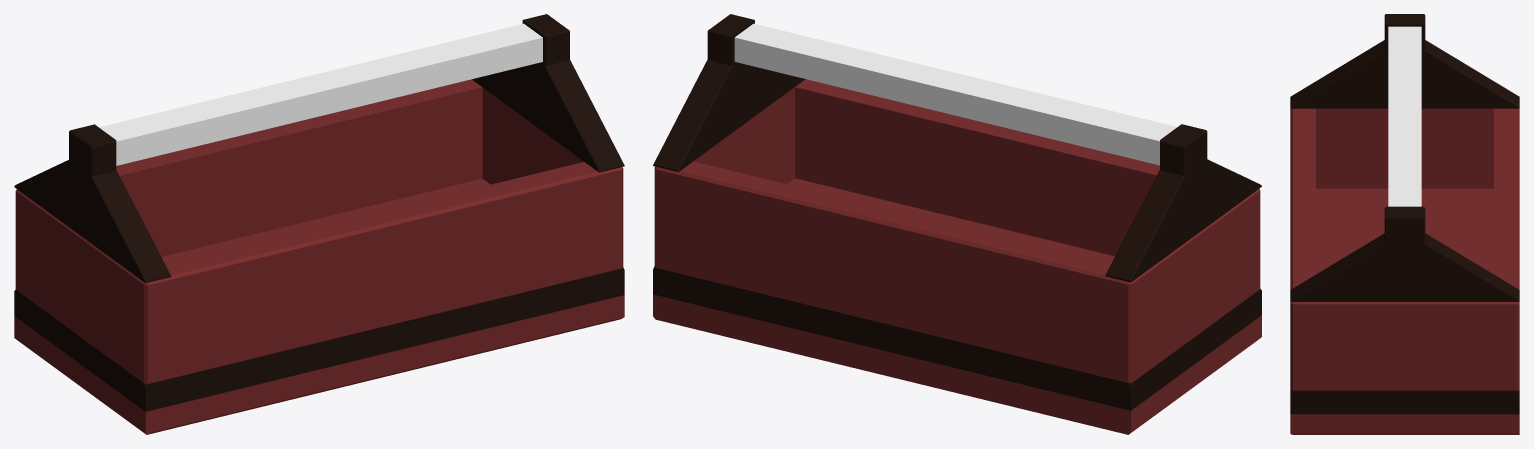
The model's file is toolbox.glb.
3 views of the same model, side by side, from view 1: azimuth 30°, elevation 25°; view 2: azimuth 150°, elevation 25°; view 3: azimuth 270°, elevation 25° (orthographic). The views are drawn at different scales.
Parts seen in each view (by area): view 1: ToolBox; view 2: ToolBox; view 3: ToolBox.
Part boxes in pixels (x1,y1,x2,y2): ToolBox: [14, 14, 624, 434]; ToolBox: [653, 14, 1261, 434]; ToolBox: [1290, 14, 1519, 434].
Size of the model in its own units: 4.21 by 2.1 by 2.
Materials: 1 (1 with a texture image).
